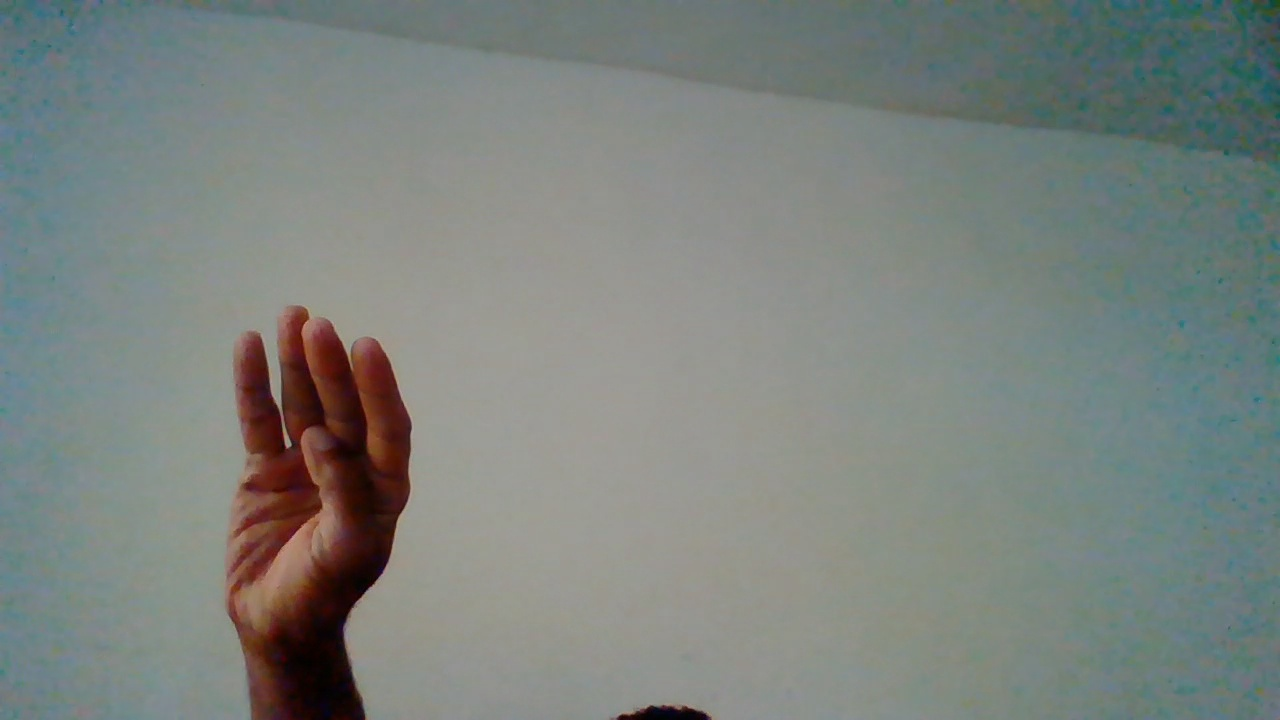me: (219, 308, 418, 713)
